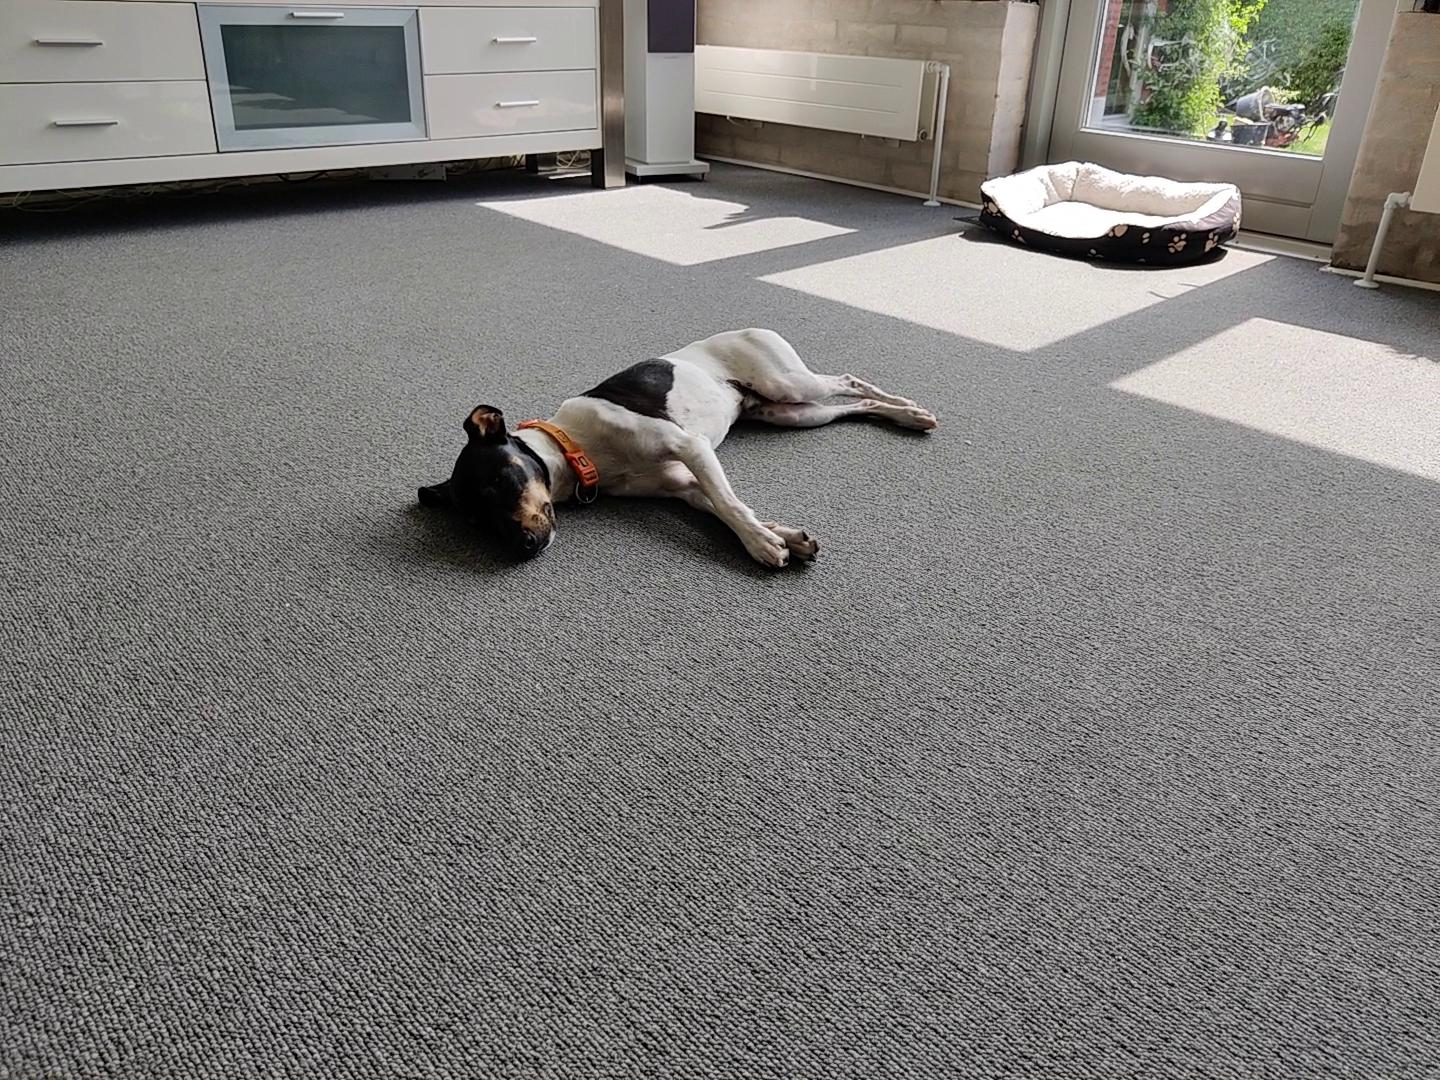Dog: (414, 315, 942, 582)
